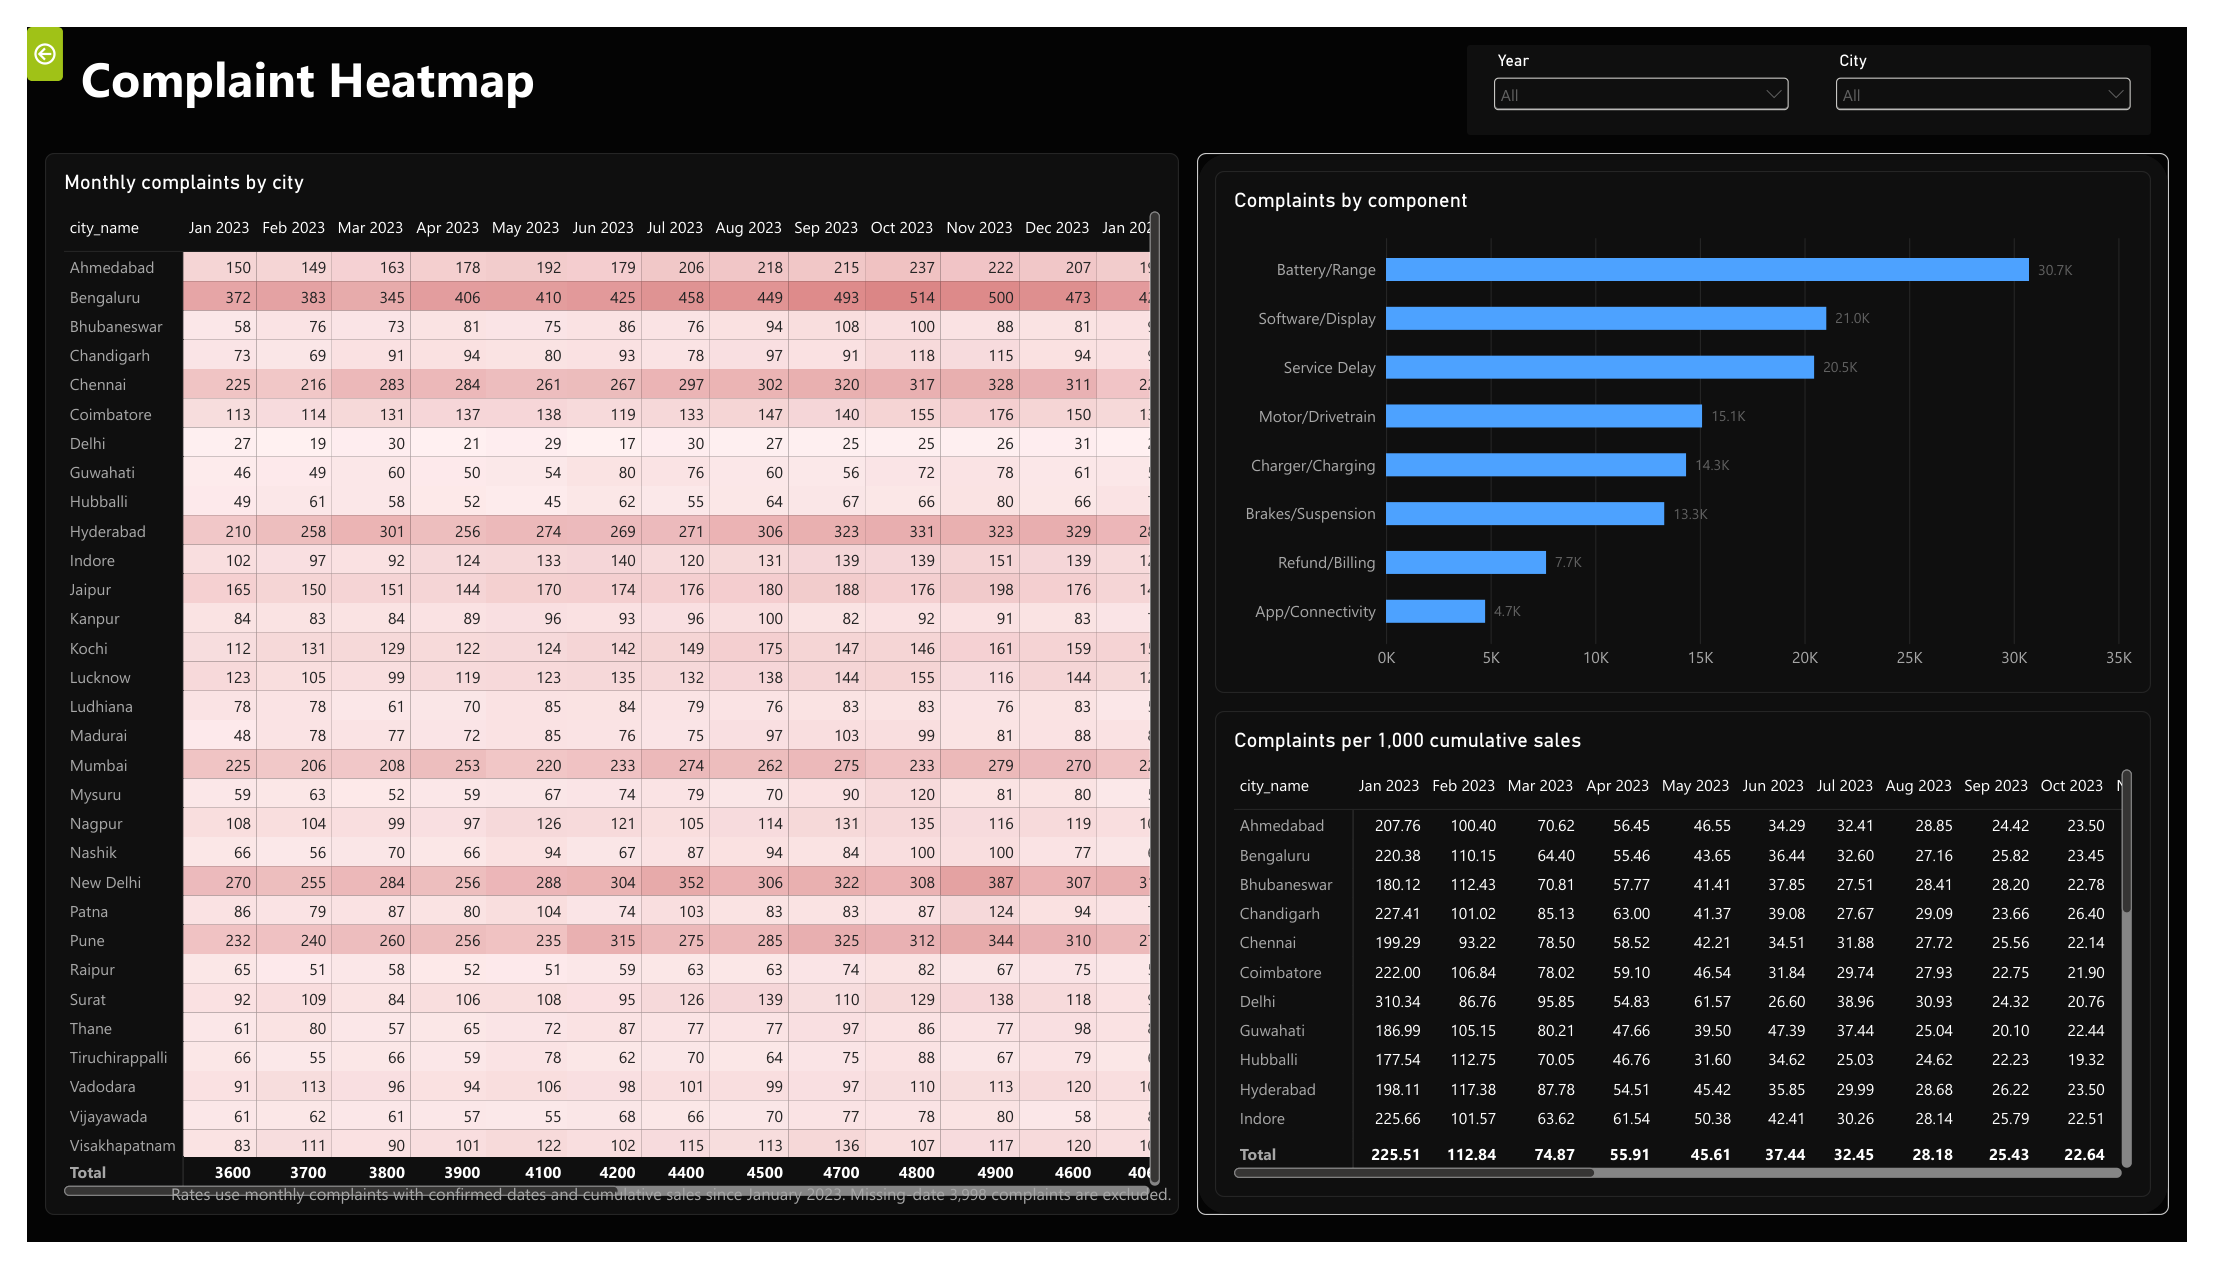

What the dashboard file says about the page in this screenshot:
{"tool":"powerbi","page":{"name":"Complaint Heatmap ","canvas":[1920,1080],"ordinal":1},"visuals":[{"type":"shape","box":[1040,112,864,944],"z":0},{"type":"shape","box":[1280,16,608,80],"z":1000},{"type":"slicer","fields":{"Values":["ola_star dim_date.year"]},"box":[1299.4,22.3,272,80],"z":2000},{"type":"slicer","fields":{"Values":["ola_star dim_city.city_name"]},"box":[1603.4,22.3,272,80],"z":3000},{"type":"pivotTable","title":"Monthly complaints by city","fields":{"Columns":["ola_star dim_date.Month Year"],"Rows":["ola_star dim_city.city_name"],"Values":["ola_star fact_complaints.Total Complaints"]},"box":[16,112,1008,944],"z":4000},{"type":"barChart","title":"Complaints by component","fields":{"Category":["ola_star fact_complaints.component_extracted"],"Y":["ola_star fact_complaints.Total Complaints"]},"box":[1056,128,832,464],"z":5000},{"type":"actionButton","box":[0,0,32,48],"z":6000},{"type":"pivotTable","title":"Complaints per 1,000 cumulative sales","fields":{"Columns":["ola_star dim_date.Month Year"],"Rows":["ola_star dim_city.city_name"],"Values":["ola_star fact_sales.Complaints per 1000 Vehicles"]},"box":[1056,608,832,432],"z":7000},{"type":"textbox","box":[48,16,416,80],"z":8000},{"type":"textbox","box":[128,1008,912,64],"z":9000}]}

Visuals, with their boxes in screenshot pixels (x1, y1, x2, y2), scaled from the page's 1920x1080 canvas onto the 2214x1269 screenshot:
shape: Rect(1199, 132, 2196, 1241)
shape: Rect(1476, 19, 2177, 113)
slicer - ola_star dim_date.year: Rect(1498, 26, 1812, 120)
slicer - ola_star dim_city.city_name: Rect(1849, 26, 2163, 120)
"Monthly complaints by city" pivotTable: Rect(18, 132, 1181, 1241)
"Complaints by component" barChart: Rect(1218, 150, 2177, 696)
actionButton: Rect(0, 0, 37, 56)
"Complaints per 1,000 cumulative sales" pivotTable: Rect(1218, 714, 2177, 1222)
textbox: Rect(55, 19, 535, 113)
textbox: Rect(148, 1184, 1199, 1260)
